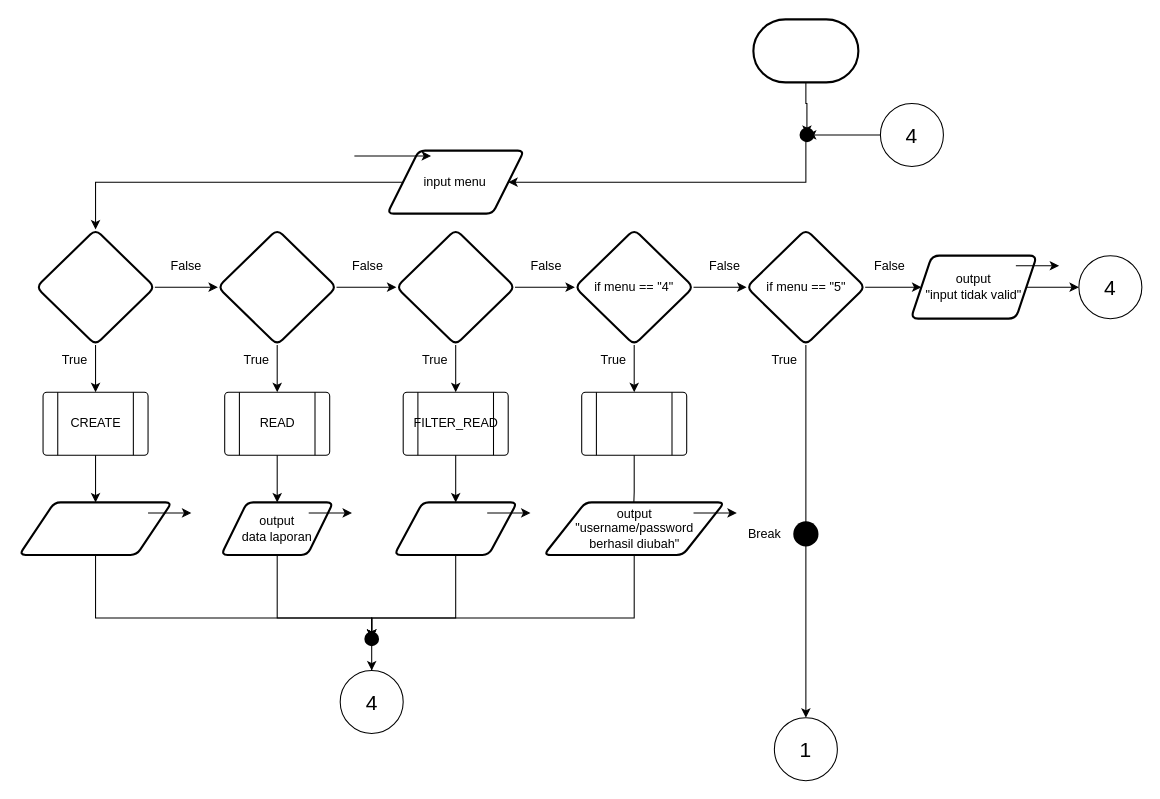
The diagram is 1160 pixels wide and 799 high, and some of its shapes have lost their labels. Each missing label, with the centre of its shape:
if menu == "1": point (95, 286)
if menu == "2": point (276, 286)
if menu == "3": point (455, 286)
MENU_USER: point (805, 50)
output "Laporan berhasil dibuat": point (95, 528)
output filter_data laporan: point (455, 528)
UBAH_PROFIL: point (634, 423)
